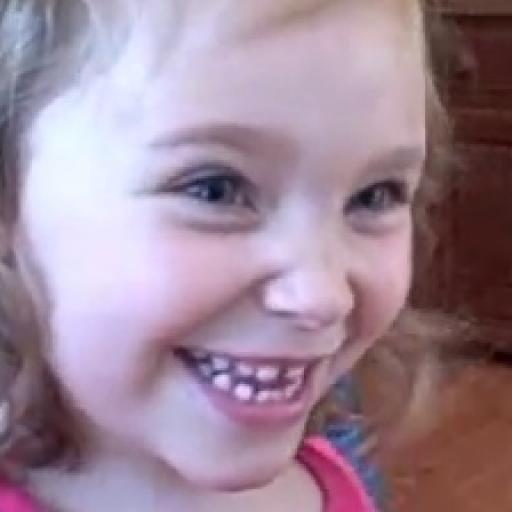Autism: (0, 0, 446, 478)
